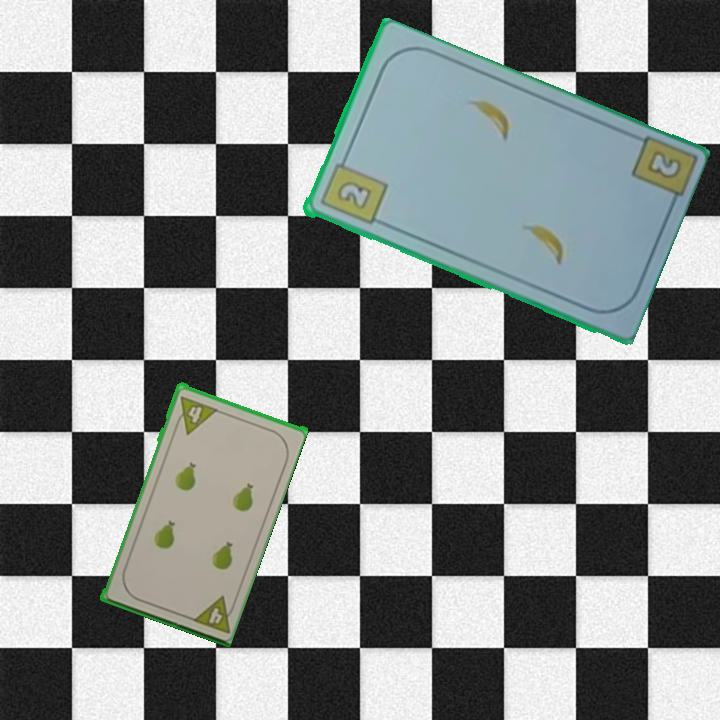2b: (316, 152, 390, 228), (643, 147, 684, 182)
4p: (187, 592, 239, 636), (170, 392, 219, 436)
